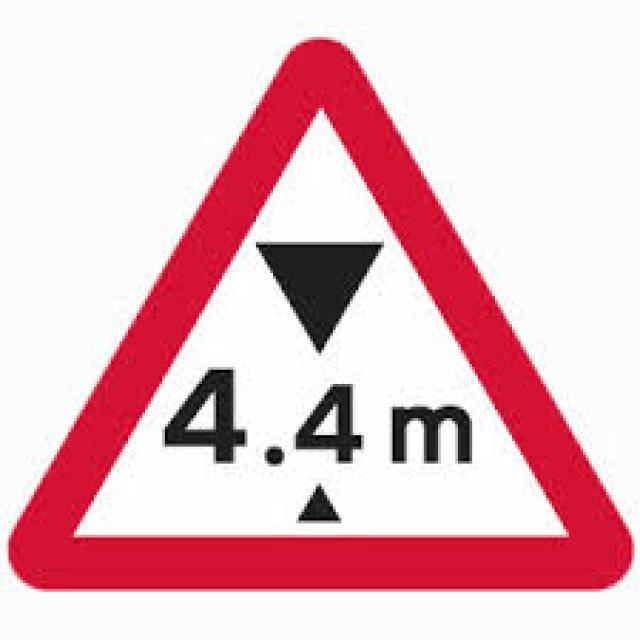height limit: (8, 35, 631, 599)
